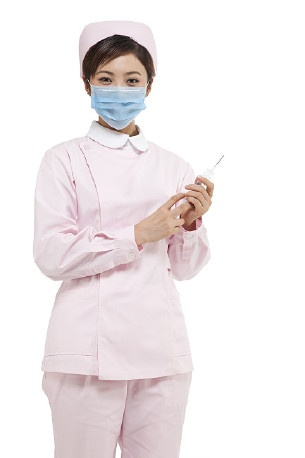Mask: (89, 64, 155, 130)
